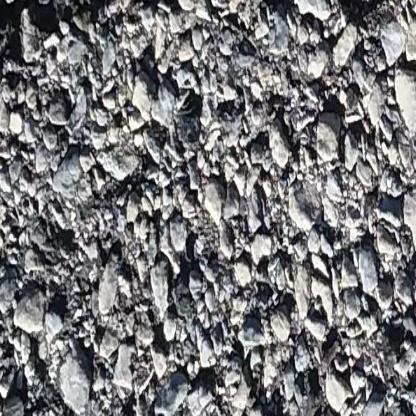Cracks: (0, 0, 111, 76), (225, 0, 416, 32)
